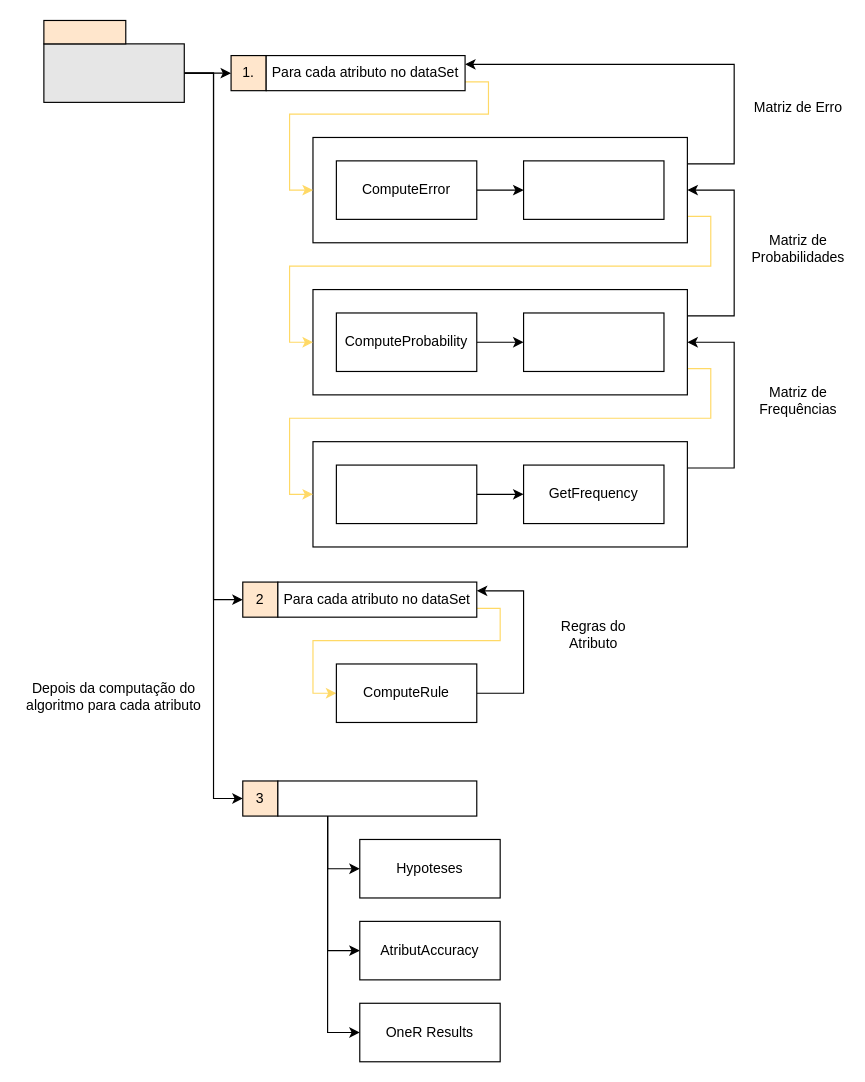
Image size: 865x1082. Some labels were removed from this diagram. Here are the shapes that lost their labels. From the top down, the centre of each, then its label:
(84,31): OneR
(113,72): Execute
(593,189): GetError
(593,341): GetProbability
(406,494): ComputeFrequency
(377,798): Analise de Resultados
